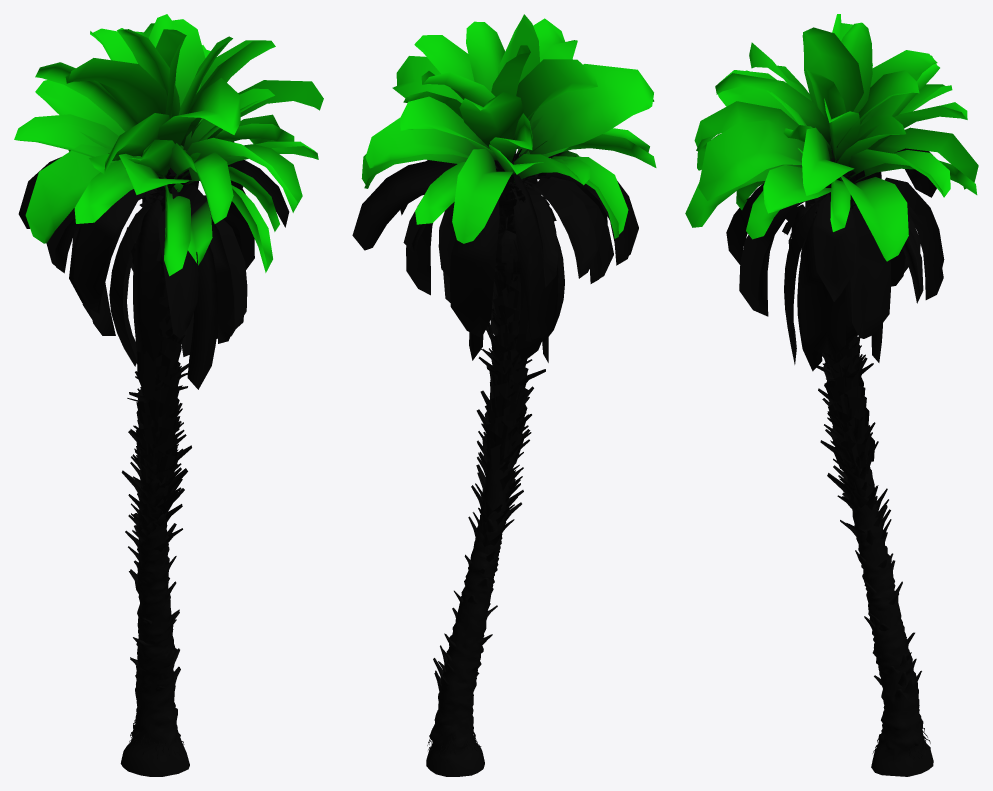
The picture shows the model from 3 angles, left to right: view 1: azimuth 30°, elevation 25°; view 2: azimuth 150°, elevation 25°; view 3: azimuth 270°, elevation 25°; orthographic projection. The views are drawn at different scales.
Visible parts, largest first — view 1: SM_TR_DatePalm_18m_HD; view 2: SM_TR_DatePalm_18m_HD; view 3: SM_TR_DatePalm_18m_HD.
Boxes of the visible parts, left/top/right/bottom form: SM_TR_DatePalm_18m_HD: left=14, top=14, right=323, bottom=776; SM_TR_DatePalm_18m_HD: left=352, top=14, right=656, bottom=776; SM_TR_DatePalm_18m_HD: left=685, top=14, right=978, bottom=776.
Bounding box in the file's own units: 249 × 246 × 679.
